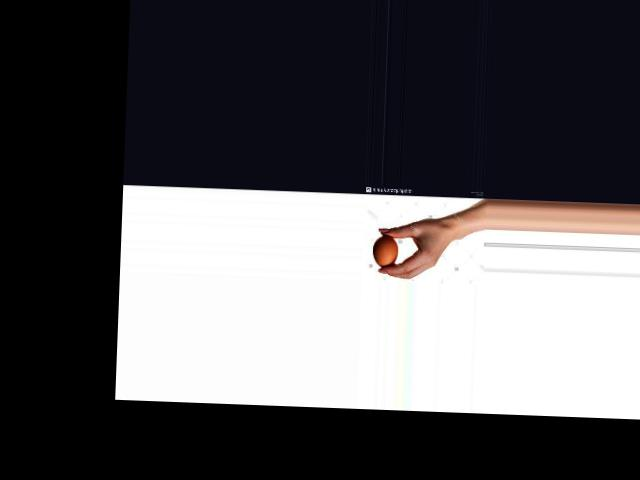egg: (373, 235, 399, 267)
